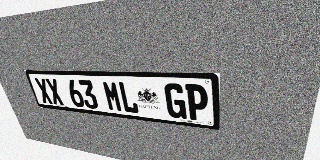3: (78, 80, 99, 109)
6: (65, 79, 86, 108)
G: (164, 83, 187, 119)
L: (117, 81, 139, 114)
M: (102, 81, 123, 112)
P: (185, 84, 208, 122)
X: (45, 78, 65, 105), (34, 78, 54, 104)
